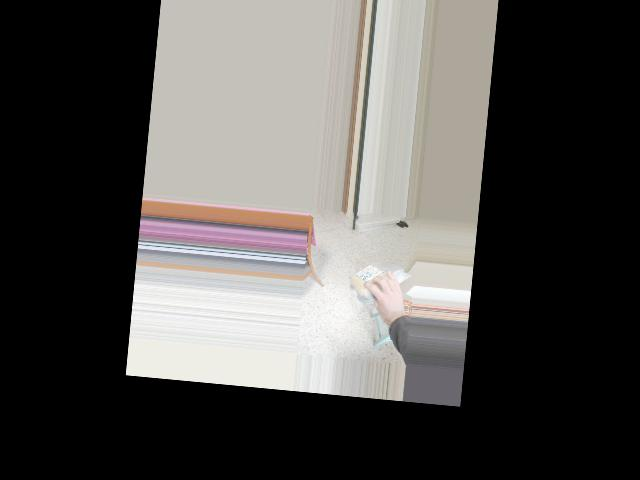cheese: (341, 263, 408, 296)
